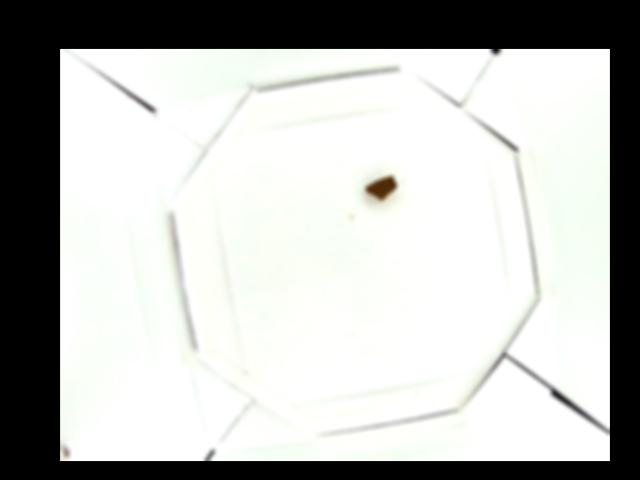China: (365, 175, 397, 202)
